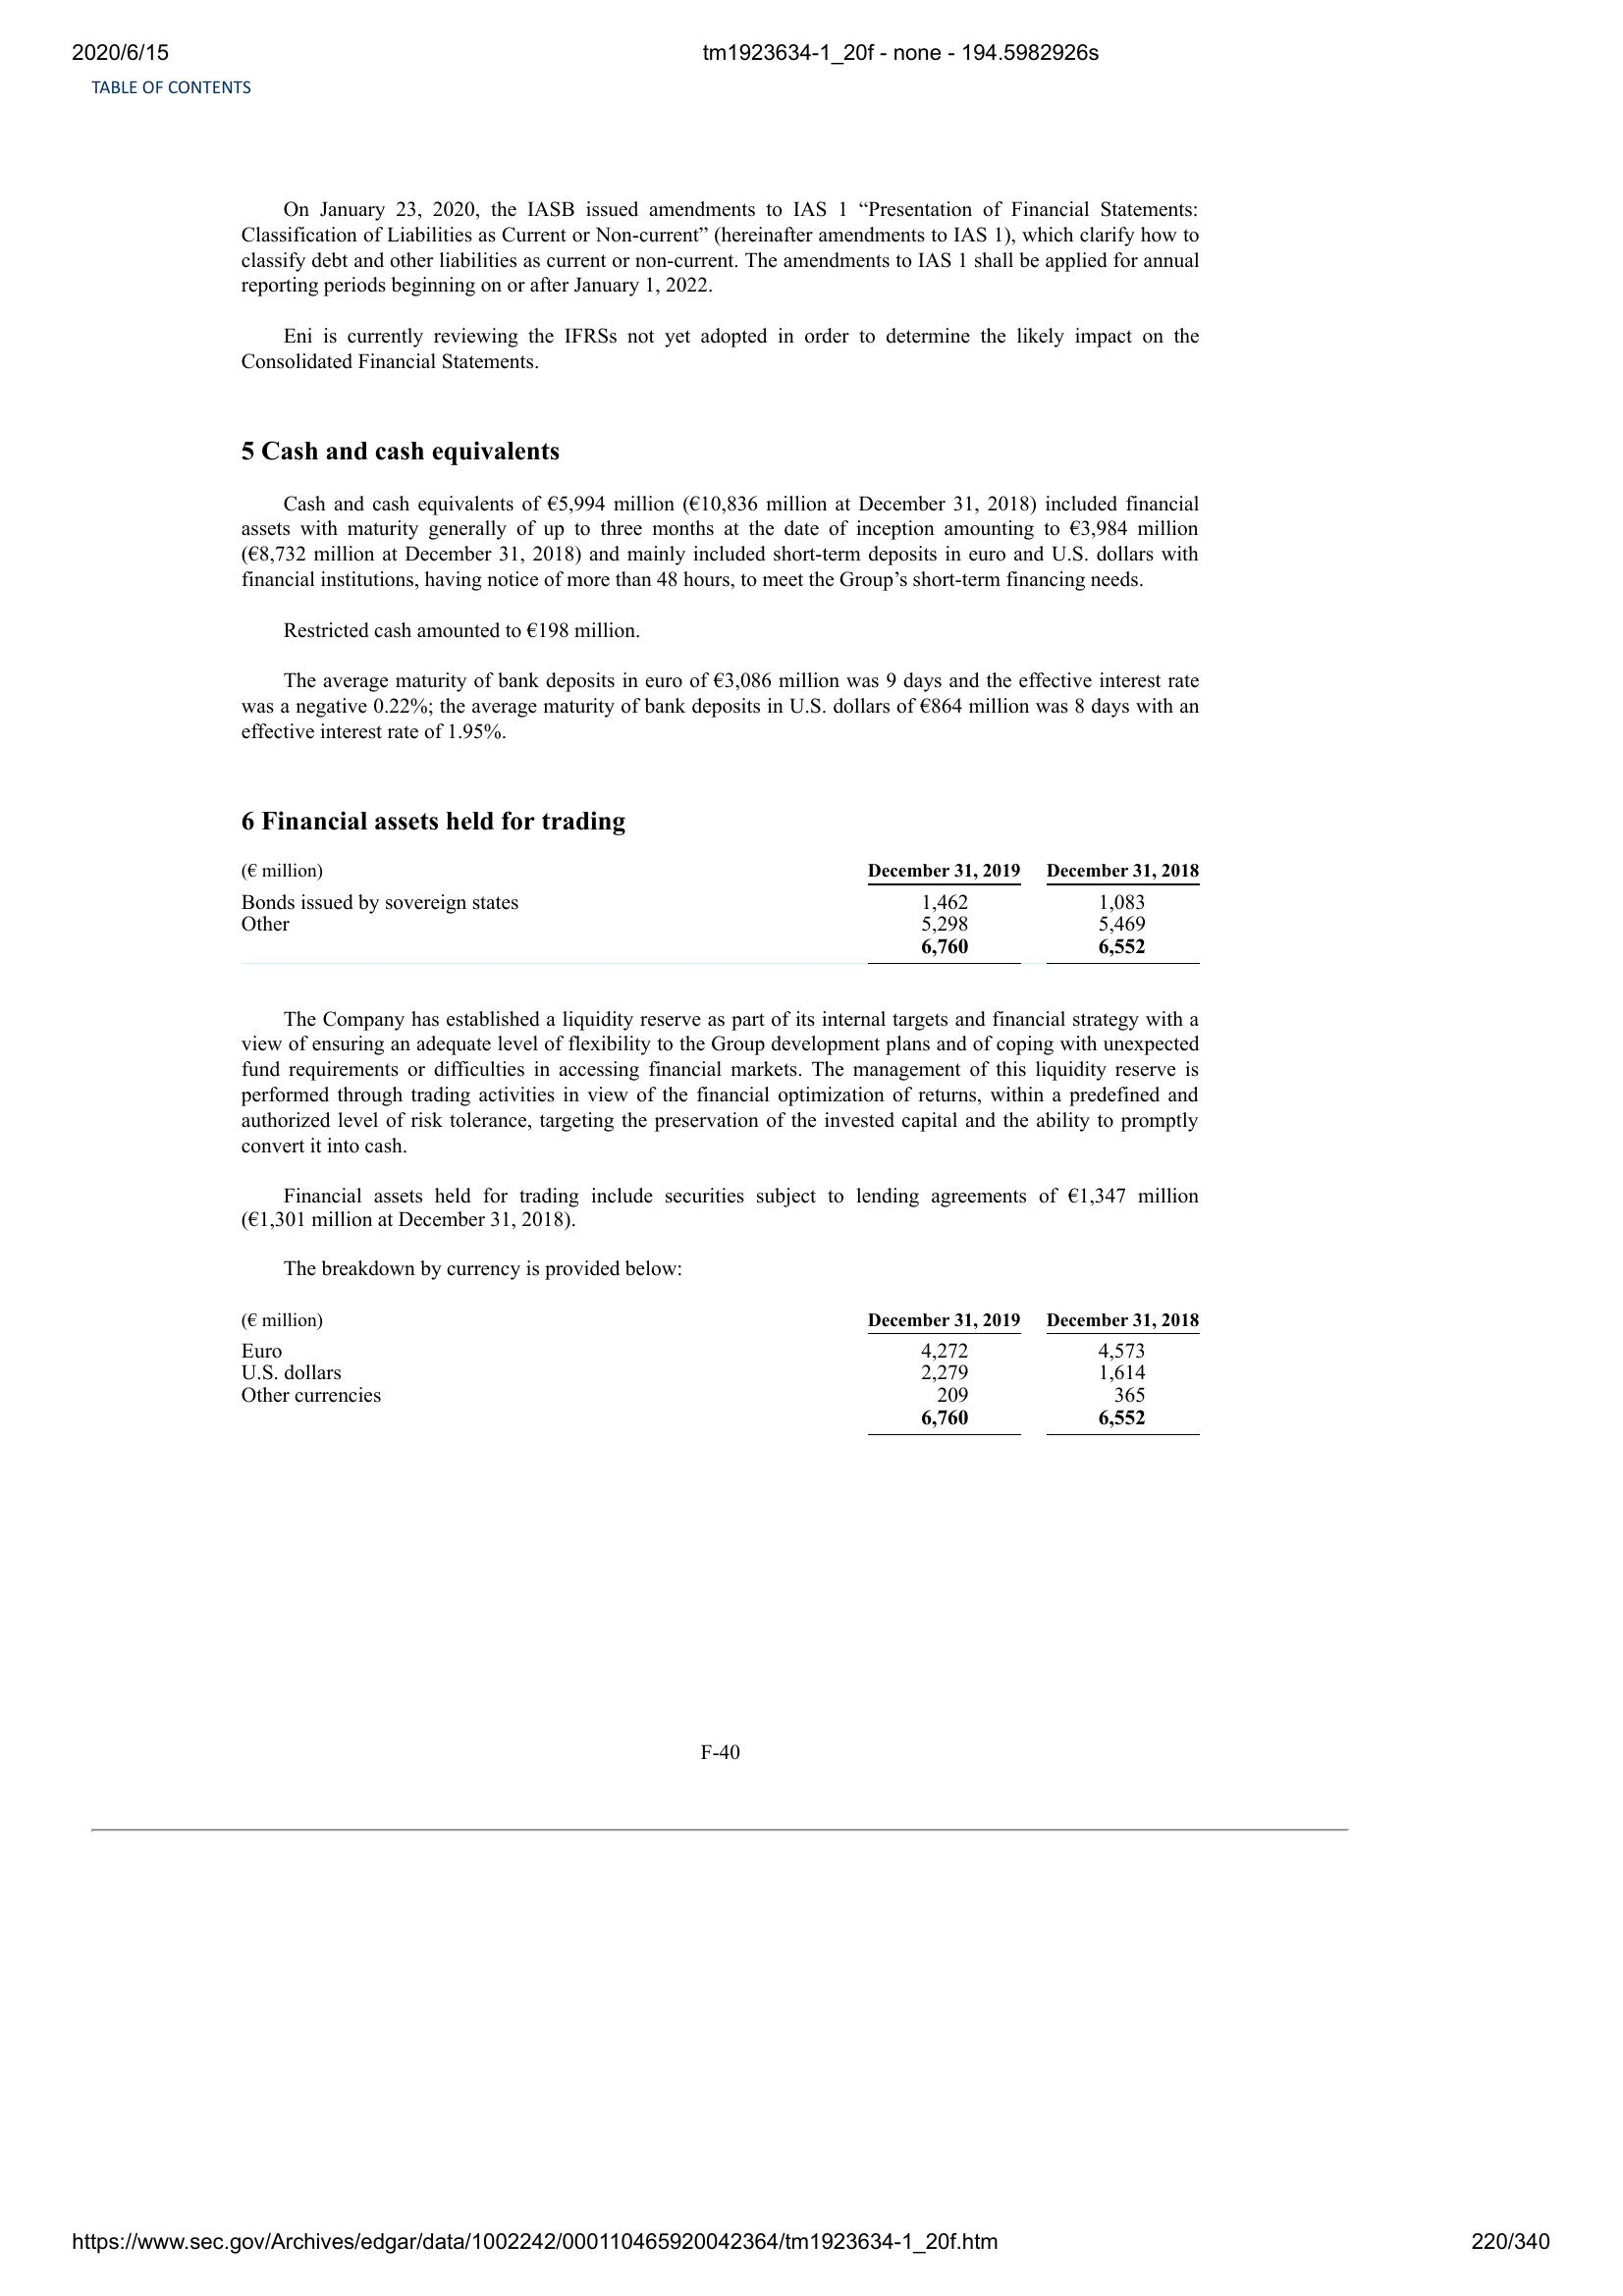table: (211, 1302, 1210, 1438), (223, 848, 1203, 974)
